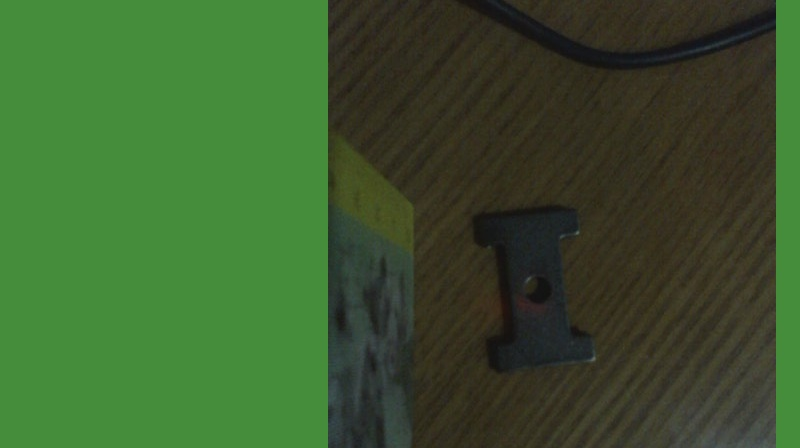O002: (470, 205, 595, 372)
